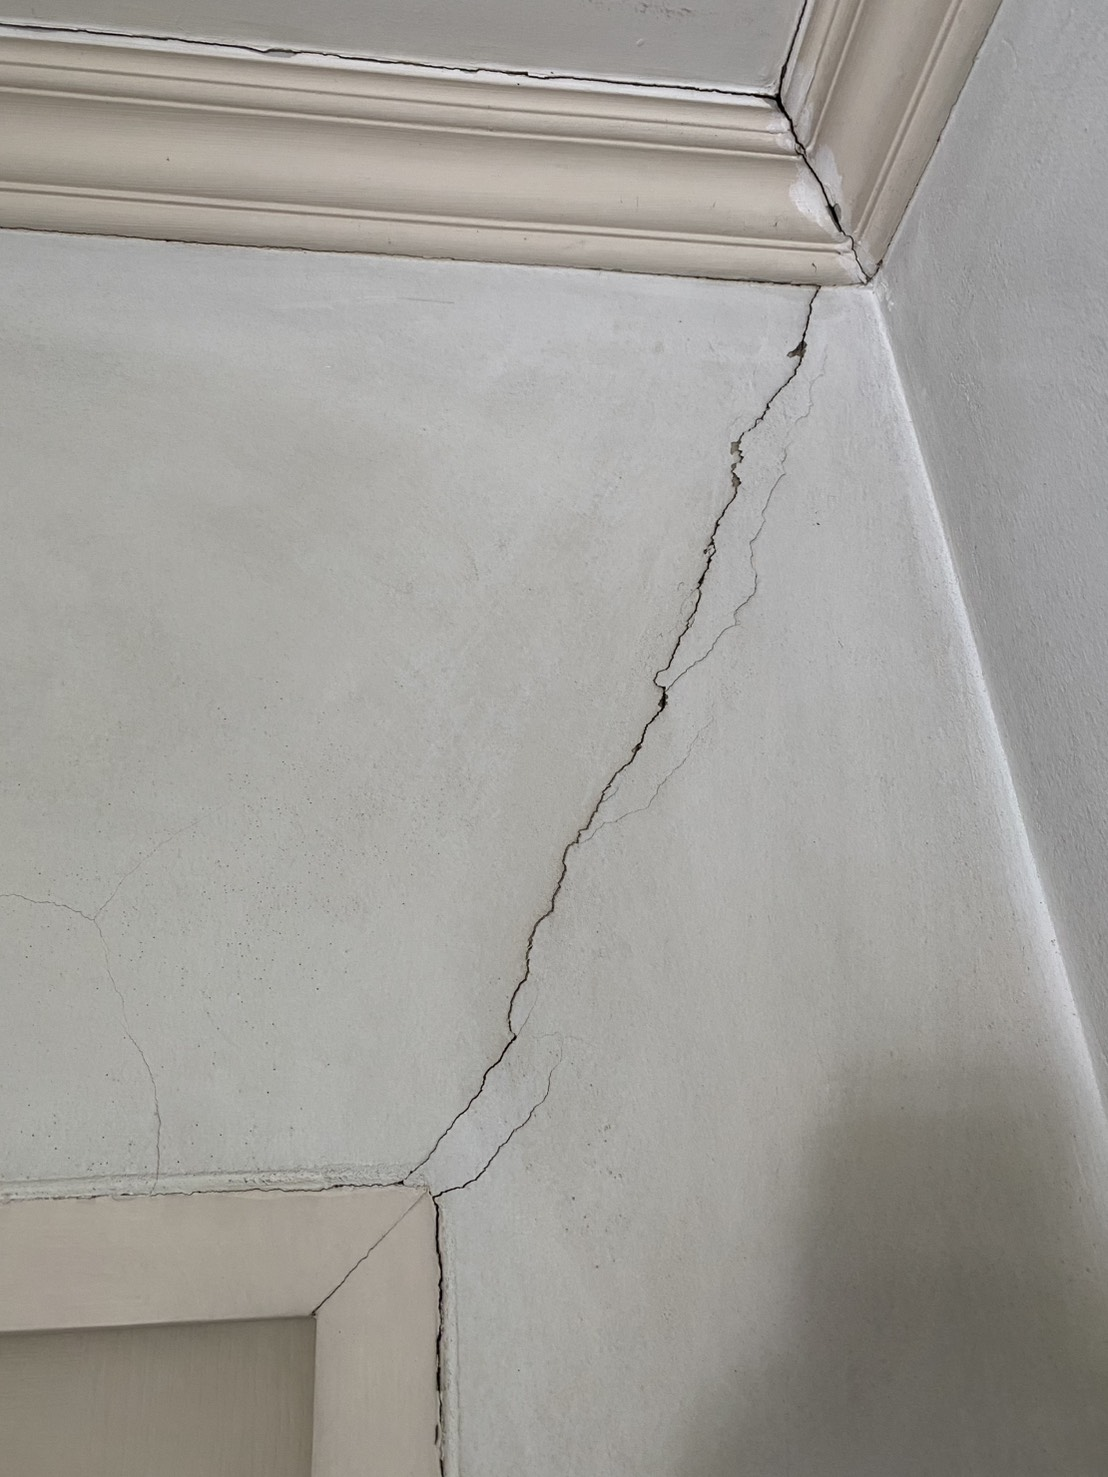Low: (407, 275, 887, 1184)
